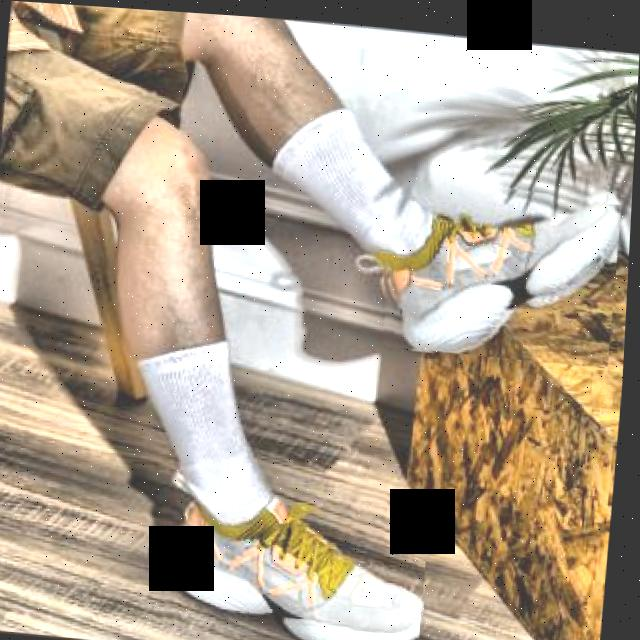shoe: (159, 462, 437, 640), (375, 163, 624, 360)
